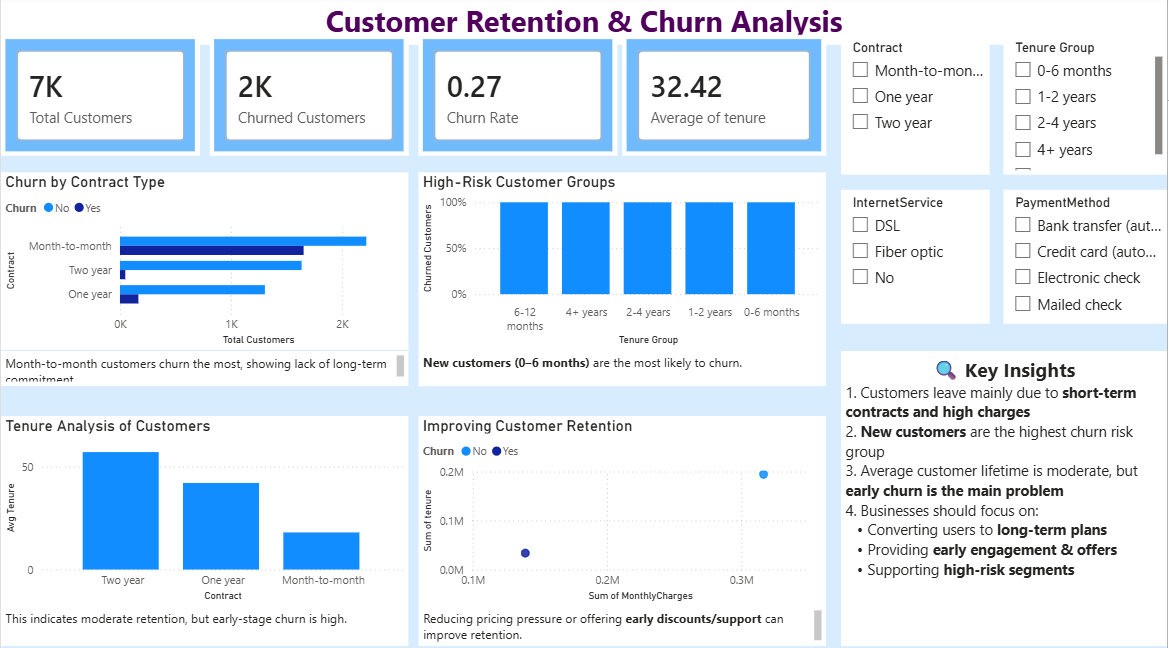

The page's visual inventory and layout, read from the dashboard file:
{"tool":"powerbi","page":{"name":"Page 1","canvas":[1280,720],"ordinal":0},"visuals":[{"type":"textbox","box":[9.6,0,1270.7,53.5],"z":0},{"type":"cardVisual","fields":{"Data":["WA_Fn-UseC_-Telco-Customer-Churn.Total Customers"]},"box":[0,42.5,218.2,133.1],"z":1000},{"type":"cardVisual","fields":{"Data":["WA_Fn-UseC_-Telco-Customer-Churn.Churned Customers"]},"box":[229.2,42.5,218.2,133.1],"z":2000},{"type":"cardVisual","fields":{"Data":["WA_Fn-UseC_-Telco-Customer-Churn.Churn Rate"]},"box":[458.3,42.5,218.2,133.1],"z":3000},{"type":"clusteredBarChart","title":"Churn by Contract Type","fields":{"Category":["WA_Fn-UseC_-Telco-Customer-Churn.Contract"],"Y":["WA_Fn-UseC_-Telco-Customer-Churn.Total Customers"],"Series":["WA_Fn-UseC_-Telco-Customer-Churn.Churn"]},"box":[0,193.5,447.3,194.9],"z":4000},{"type":"textbox","box":[0,389.7,447.3,38.4],"z":5000},{"type":"hundredPercentStackedColumnChart","title":"High-Risk Customer Groups","fields":{"Y":["WA_Fn-UseC_-Telco-Customer-Churn.Churned Customers"],"Category":["WA_Fn-UseC_-Telco-Customer-Churn.Tenure Group"]},"box":[458.3,193.5,447.3,194.9],"z":6000},{"type":"textbox","box":[458.3,388.3,447.3,39.8],"z":7000},{"type":"cardVisual","fields":{"Data":["Avg(WA_Fn-UseC_-Telco-Customer-Churn.tenure)"]},"box":[682,42.5,223.7,133.1],"z":8000},{"type":"columnChart","title":"Tenure Analysis of Customers","fields":{"Y":["WA_Fn-UseC_-Telco-Customer-Churn.Avg Tenure"],"Category":["WA_Fn-UseC_-Telco-Customer-Churn.Contract"]},"box":[0,461.1,447.3,208.6],"z":9000},{"type":"textbox","box":[0,669.6,447.3,43.9],"z":10000},{"type":"scatterChart","title":"Improving Customer Retention","fields":{"X":["Sum(WA_Fn-UseC_-Telco-Customer-Churn.MonthlyCharges)"],"Y":["Sum(WA_Fn-UseC_-Telco-Customer-Churn.tenure)"],"Series":["WA_Fn-UseC_-Telco-Customer-Churn.Churn"]},"box":[458.3,461.1,447.3,208.6],"z":11000},{"type":"textbox","box":[458.3,669.6,447.3,43.9],"z":12000},{"type":"slicer","fields":{"Values":["WA_Fn-UseC_-Telco-Customer-Churn.Contract"]},"box":[922.1,42.5,163.3,153.7],"z":13000},{"type":"slicer","fields":{"Values":["WA_Fn-UseC_-Telco-Customer-Churn.Tenure Group"]},"box":[1100.5,42.5,179.8,153.7],"z":14000},{"type":"slicer","fields":{"Values":["WA_Fn-UseC_-Telco-Customer-Churn.InternetService"]},"box":[922.1,212.7,163.3,146.8],"z":15000},{"type":"slicer","fields":{"Values":["WA_Fn-UseC_-Telco-Customer-Churn.PaymentMethod"]},"box":[1100.5,212.7,179.8,146.8],"z":16000},{"type":"textbox","box":[922.1,389.7,358.1,323.8],"z":17000},{"type":"actionButton","box":[0,0,100,40],"z":17001}]}

Visuals, with their boxes in screenshot pixels (x1, y1, x2, y2), scaled from the page's 1280x720 canvas onto the 1169x648 screenshot:
textbox: [9, 0, 1168, 48]
cardVisual - WA_Fn-UseC_-Telco-Customer-Churn.Total Customers: [0, 38, 199, 158]
cardVisual - WA_Fn-UseC_-Telco-Customer-Churn.Churned Customers: [209, 38, 409, 158]
cardVisual - WA_Fn-UseC_-Telco-Customer-Churn.Churn Rate: [419, 38, 618, 158]
"Churn by Contract Type" clusteredBarChart: [0, 174, 409, 350]
textbox: [0, 351, 409, 385]
"High-Risk Customer Groups" hundredPercentStackedColumnChart: [419, 174, 827, 350]
textbox: [419, 349, 827, 385]
cardVisual - Avg(WA_Fn-UseC_-Telco-Customer-Churn.tenure): [623, 38, 827, 158]
"Tenure Analysis of Customers" columnChart: [0, 415, 409, 603]
textbox: [0, 603, 409, 642]
"Improving Customer Retention" scatterChart: [419, 415, 827, 603]
textbox: [419, 603, 827, 642]
slicer - WA_Fn-UseC_-Telco-Customer-Churn.Contract: [842, 38, 991, 177]
slicer - WA_Fn-UseC_-Telco-Customer-Churn.Tenure Group: [1005, 38, 1168, 177]
slicer - WA_Fn-UseC_-Telco-Customer-Churn.InternetService: [842, 191, 991, 324]
slicer - WA_Fn-UseC_-Telco-Customer-Churn.PaymentMethod: [1005, 191, 1168, 324]
textbox: [842, 351, 1168, 642]
actionButton: [0, 0, 91, 36]
